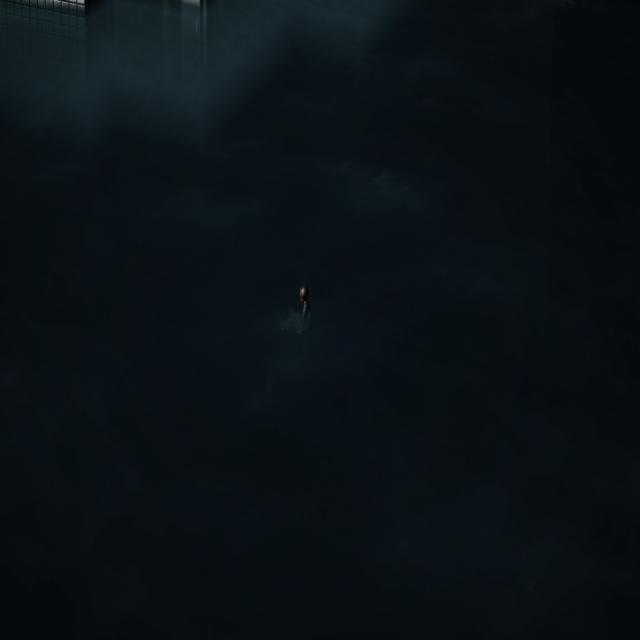Human: (280, 281, 316, 342)
